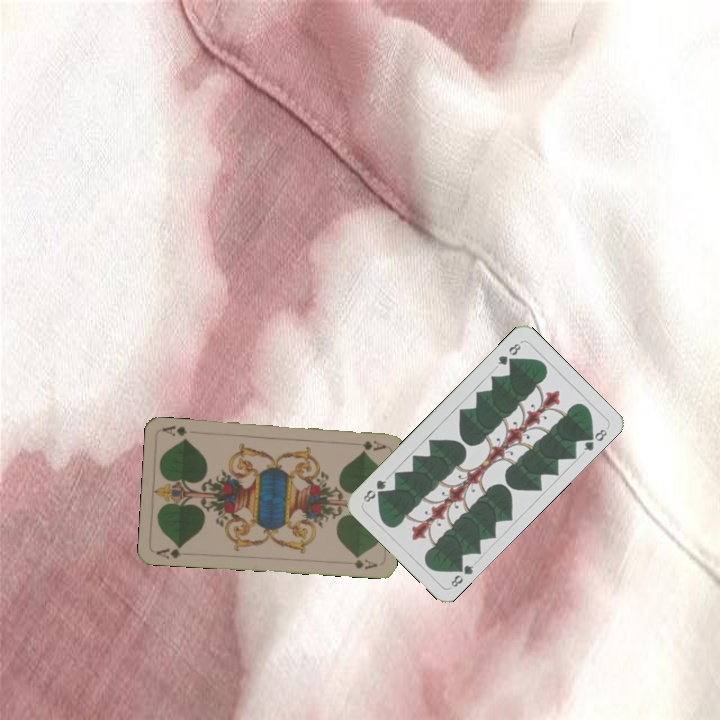G8: (447, 558, 476, 590), (493, 339, 524, 368)
GA: (347, 436, 388, 453), (152, 542, 184, 561)
